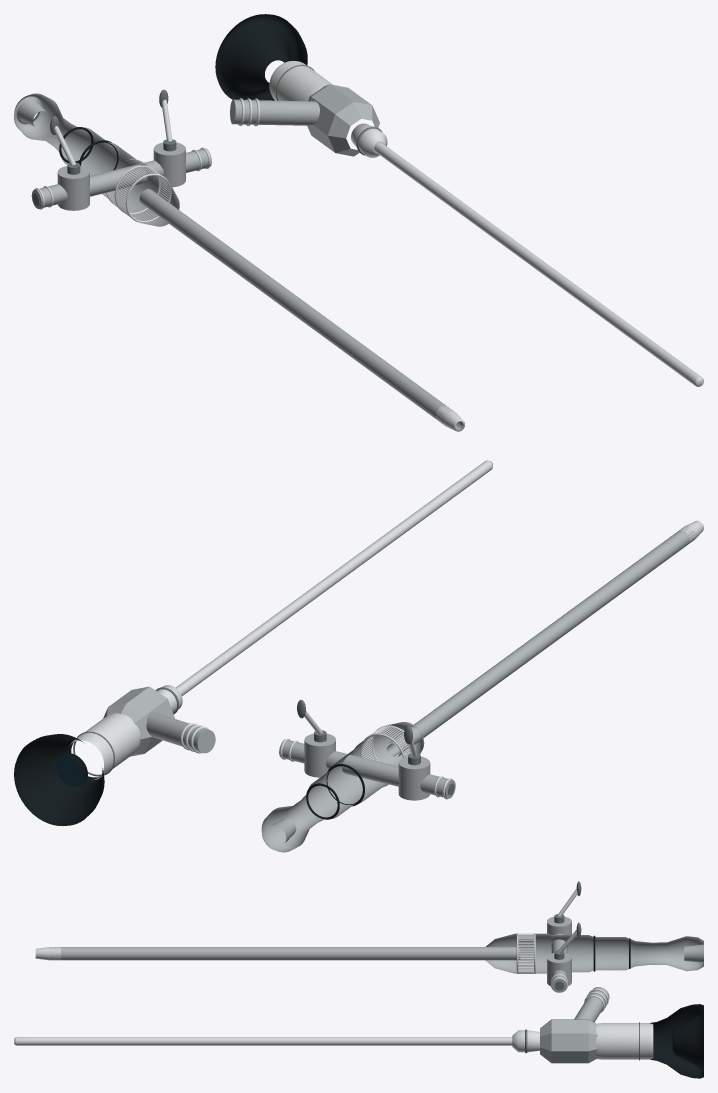
File: biportal-endoscope.glb
3 views of the same model, one above another, from view 1: azimuth 30°, elevation 25°; view 2: azimuth 150°, elevation 25°; view 3: azimuth 270°, elevation 25° (orthographic). The views are drawn at different scales.
Visible parts, largest first — view 1: Biportal instruments · satin, Biportal instruments · polished, Biportal instruments · eyecup, Biportal instruments · darkSteel; view 2: Biportal instruments · satin, Biportal instruments · polished, Biportal instruments · eyecup, Biportal instruments · darkSteel, Biportal instruments · optical; view 3: Biportal instruments · satin, Biportal instruments · polished, Biportal instruments · eyecup, Biportal instruments · darkSteel.
Part boxes in pixels (x1,y1,x2,y2): Biportal instruments · satin: (14, 84, 463, 430); Biportal instruments · polished: (34, 61, 703, 431); Biportal instruments · eyecup: (59, 14, 307, 170); Biportal instruments · darkSteel: (33, 64, 382, 205); Biportal instruments · satin: (103, 525, 696, 852); Biportal instruments · polished: (69, 460, 703, 799); Biportal instruments · eyecup: (14, 734, 364, 825); Biportal instruments · darkSteel: (73, 687, 454, 795); Biportal instruments · optical: (56, 461, 492, 787); Biportal instruments · satin: (49, 916, 703, 1063); Biportal instruments · polished: (14, 889, 653, 1059); Biportal instruments · eyecup: (593, 935, 703, 1078); Biportal instruments · darkSteel: (525, 881, 639, 1060).
Size of the model in its own units: 0.1624 by 0.0492 by 0.3531.
